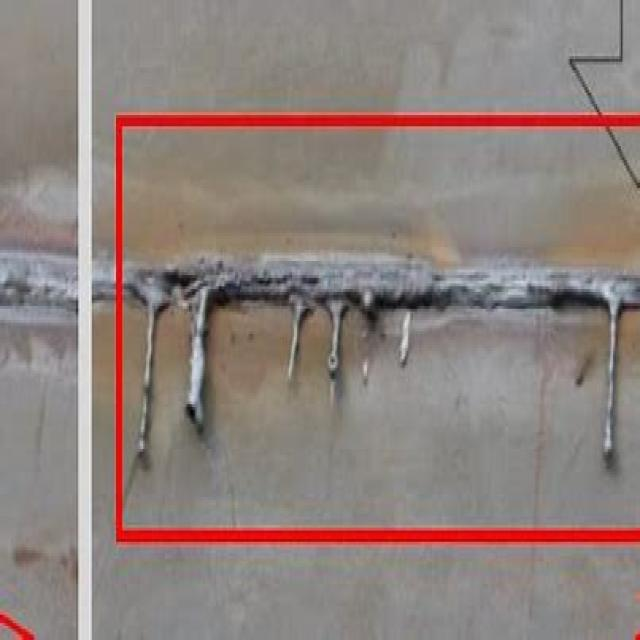Excess Reinforcement: (532, 272, 640, 472), (122, 254, 187, 471), (176, 270, 243, 440), (272, 260, 319, 391), (319, 270, 356, 410), (397, 308, 413, 375)
